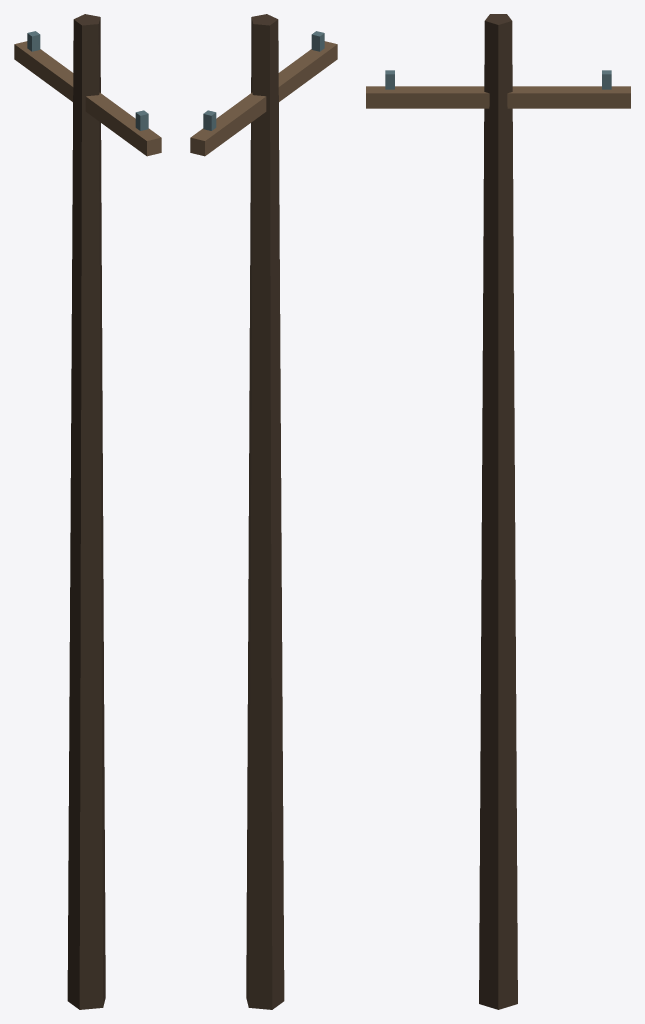
The model's file is power_pole_lod1.glb.
3 renders of one model, left to right at view 1: azimuth 30°, elevation 25°; view 2: azimuth 150°, elevation 25°; view 3: azimuth 270°, elevation 25°, orthographic.
Parts seen in each view (by area): view 1: power_pole_lod1; view 2: power_pole_lod1; view 3: power_pole_lod1.
Part boxes in pixels (x1,y1,x2,y2): power_pole_lod1: (14,14,161,1009); power_pole_lod1: (190,14,337,1009); power_pole_lod1: (366,14,630,1009).
Size of the model in its own units: 0.3075 by 9 by 2.2.
Materials: 2 (2 with a texture image).
